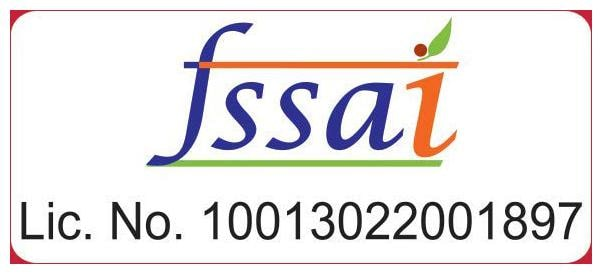fssai: (141, 16, 460, 169)
